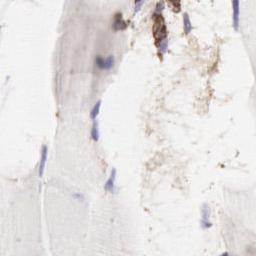nucleus: (104, 168, 116, 193), (200, 203, 212, 228), (39, 144, 47, 177), (89, 100, 101, 118), (232, 1, 239, 31), (133, 1, 144, 15), (91, 121, 99, 140), (95, 55, 105, 69), (183, 15, 190, 33), (106, 54, 114, 69), (156, 2, 164, 11), (161, 42, 167, 53), (115, 23, 121, 28), (222, 251, 228, 255)
positive_cell: (154, 18, 169, 58), (155, 1, 180, 11), (114, 12, 128, 29)
